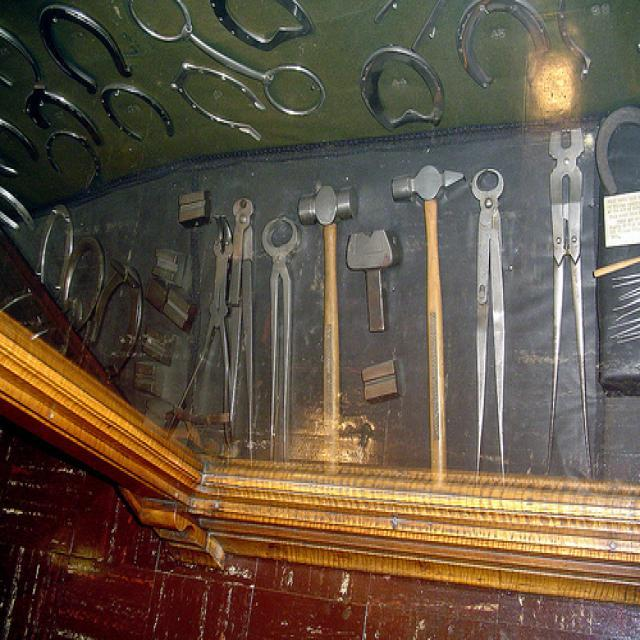hammer: (389, 152, 470, 490), (296, 180, 362, 494)
pliers: (466, 158, 514, 498), (254, 201, 308, 474)
